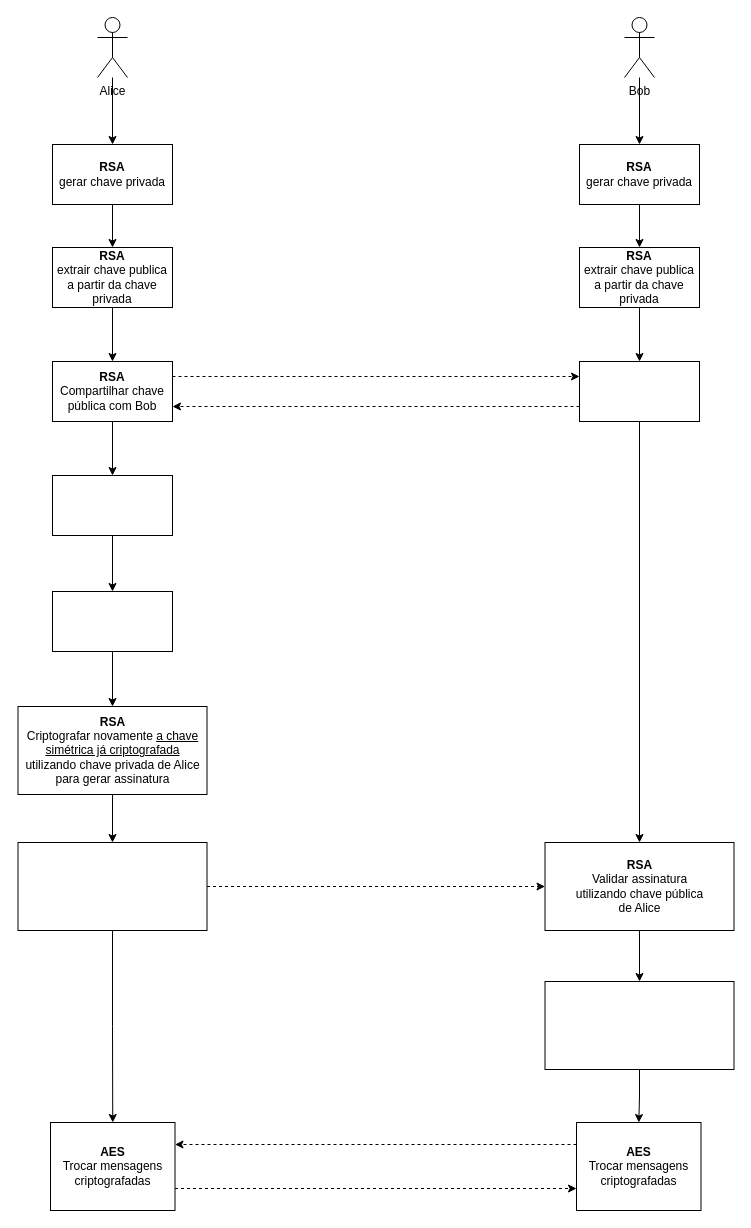
Image size: 751x1228. Some labels were removed from this diagram. Here are the shapes that lost their labels. From the top down, the box of each, then its label:
(578, 360, 700, 422): RSA Compartilhar chave pública com Alice
(52, 474, 172, 536): AES gerar uma chave simétrica
(52, 590, 172, 652): RSA Criptografar chave simétrica utilizando a chave pública de Bob
(17, 842, 207, 930): RSA Enviar ambos arquivos criptografados (chave e assinatura) para Bob
(544, 980, 734, 1070): RSA Descriptografar chave simétrica utilizando chave privada de Bob
